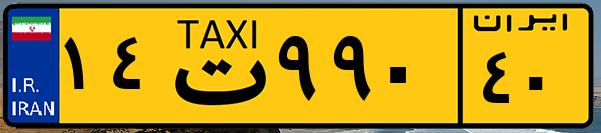0: (385, 28, 445, 110), (525, 38, 570, 115)
1: (57, 26, 110, 100)
4: (475, 38, 525, 113), (110, 28, 158, 98)
9: (270, 28, 330, 110), (330, 28, 385, 110)
ت: (158, 12, 270, 120)
